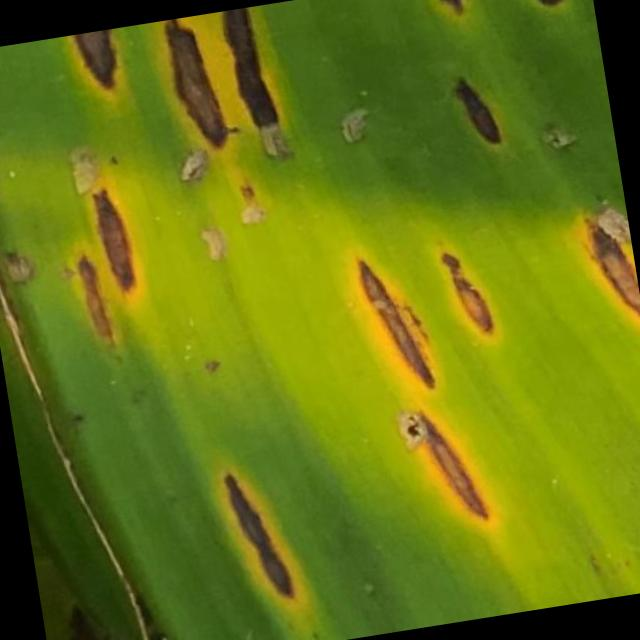Banana_Yellow_Sigatoka: (182, 448, 336, 636), (342, 220, 471, 410), (39, 168, 173, 350), (136, 14, 261, 187), (390, 392, 520, 554), (422, 44, 530, 174), (556, 182, 640, 319), (429, 225, 522, 344)
